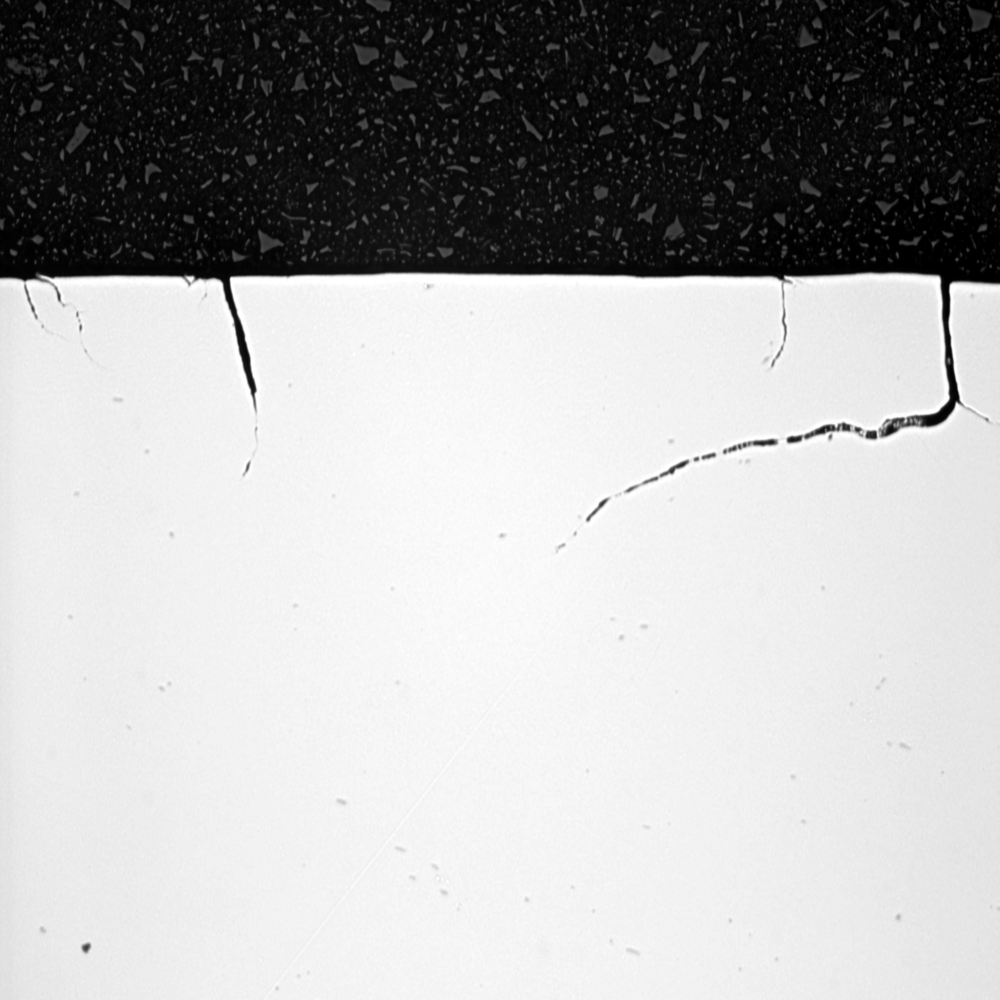crack: (527, 277, 1000, 577), (199, 272, 274, 487), (12, 265, 118, 381), (765, 276, 796, 376)
